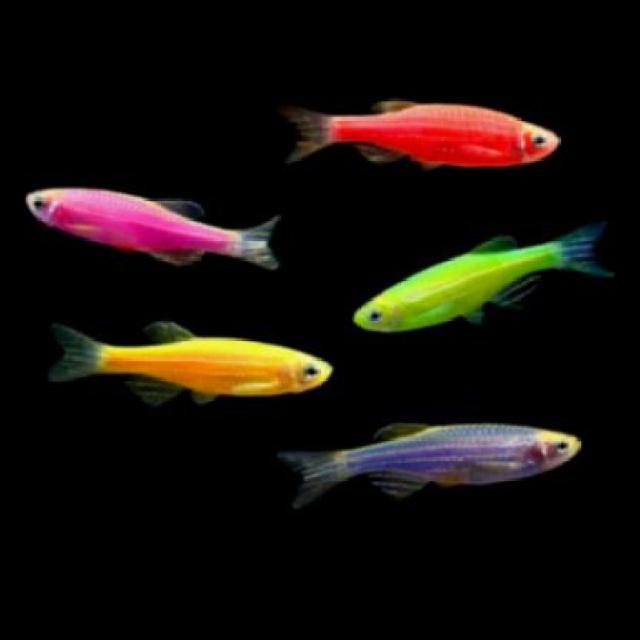ZebraFish: (288, 408, 595, 518), (358, 217, 618, 334), (46, 312, 337, 411), (274, 87, 568, 178), (30, 186, 287, 280)
